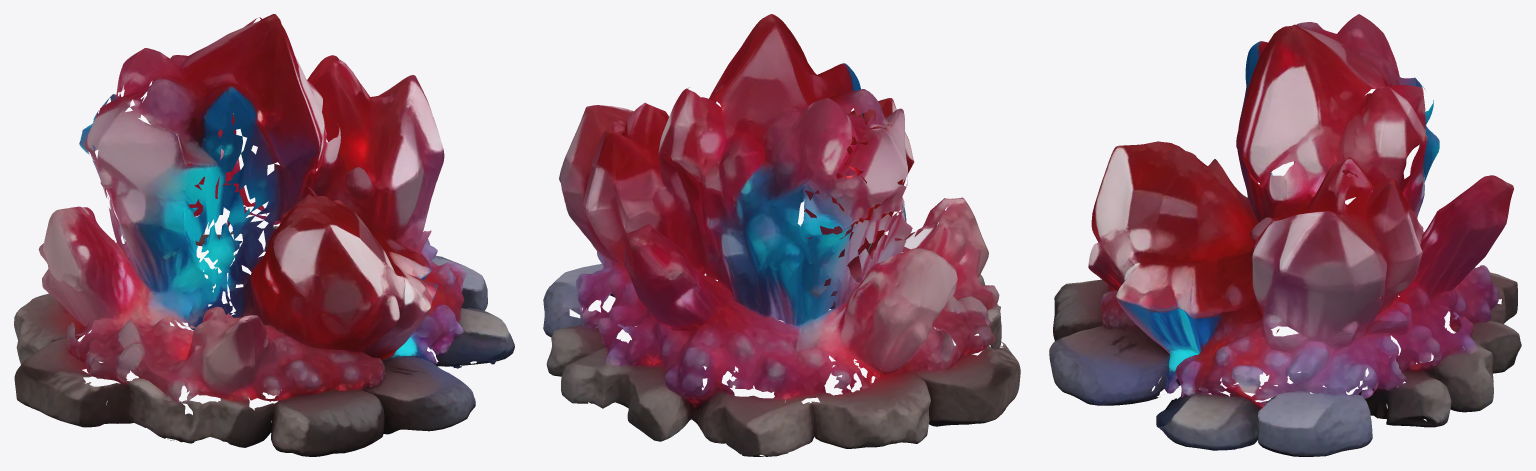
Rendered from prop_crystal.glb.
The picture shows the model from 3 angles, left to right: view 1: azimuth 30°, elevation 25°; view 2: azimuth 150°, elevation 25°; view 3: azimuth 270°, elevation 25°; orthographic projection. The views are drawn at different scales.
Parts seen in each view (by area): view 1: geometry_0.313; view 2: geometry_0.313; view 3: geometry_0.313.
Part boxes in pixels (box(x1,y1,x2,y2)): geometry_0.313: box(14, 14, 514, 456); geometry_0.313: box(543, 14, 1020, 456); geometry_0.313: box(1049, 14, 1521, 456).
Size of the model in its own units: 1 by 0.7406 by 0.9164.
Materials: 1 (1 with a texture image).
